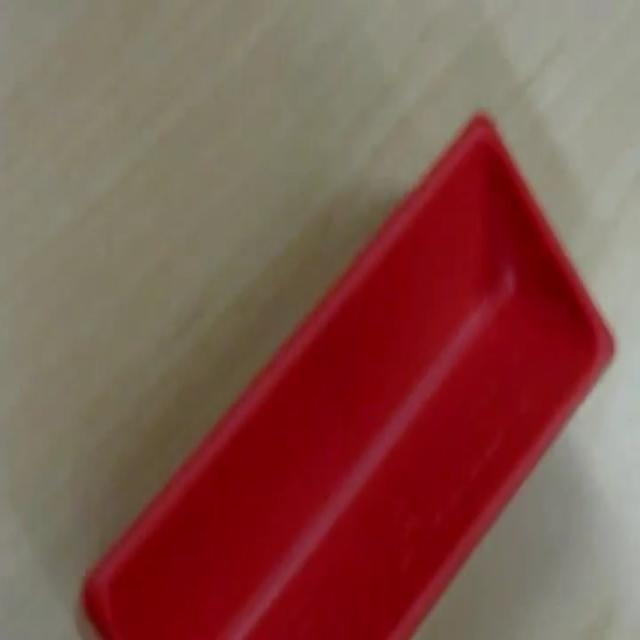red_block: (79, 110, 616, 638)
